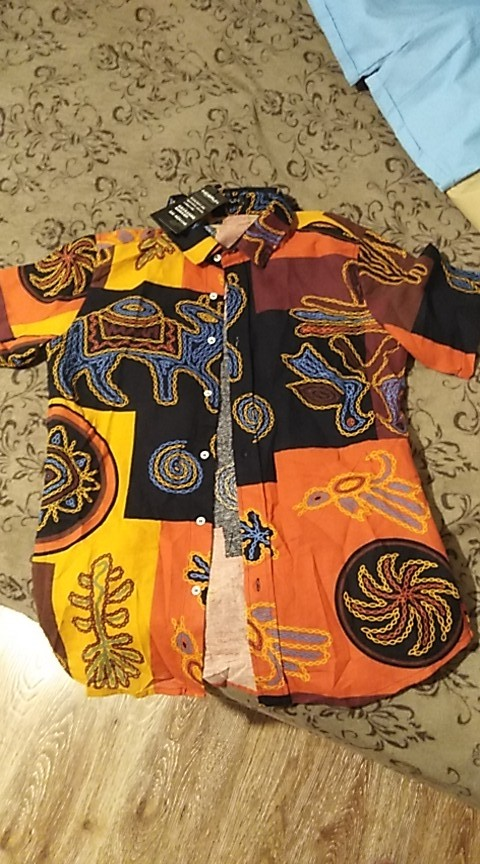shirts: (3, 198, 472, 712)
